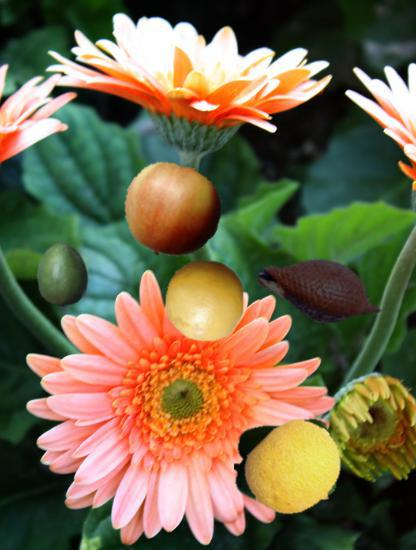Apple: (123, 161, 221, 259)
Cantaloupe: (246, 420, 346, 520)
Grapefruit: (163, 259, 247, 343)
Mango: (31, 242, 96, 307)
Pepper: (234, 408, 340, 514)
Salak: (257, 227, 386, 356)
